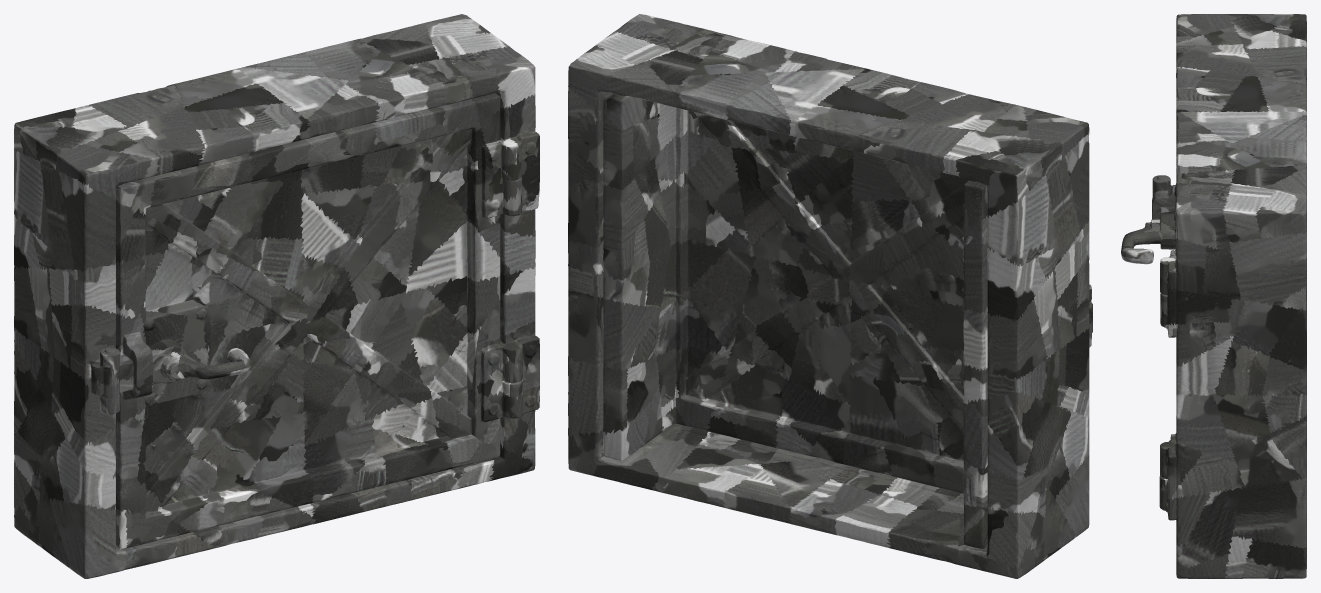
The model's file is Door_Reduce.fbx.
3 views of the same model, side by side, from view 1: azimuth 30°, elevation 25°; view 2: azimuth 150°, elevation 25°; view 3: azimuth 270°, elevation 25° (orthographic). The views are drawn at different scales.
Parts seen in each view (by area): view 1: Mesh_0; view 2: Mesh_0; view 3: Mesh_0.
Part boxes in pixels (x1,y1,x2,y2): Mesh_0: (14, 14, 539, 578); Mesh_0: (568, 14, 1092, 578); Mesh_0: (1121, 14, 1306, 578).
Bounding box in the file's own units: 190 × 163 × 74.76.
